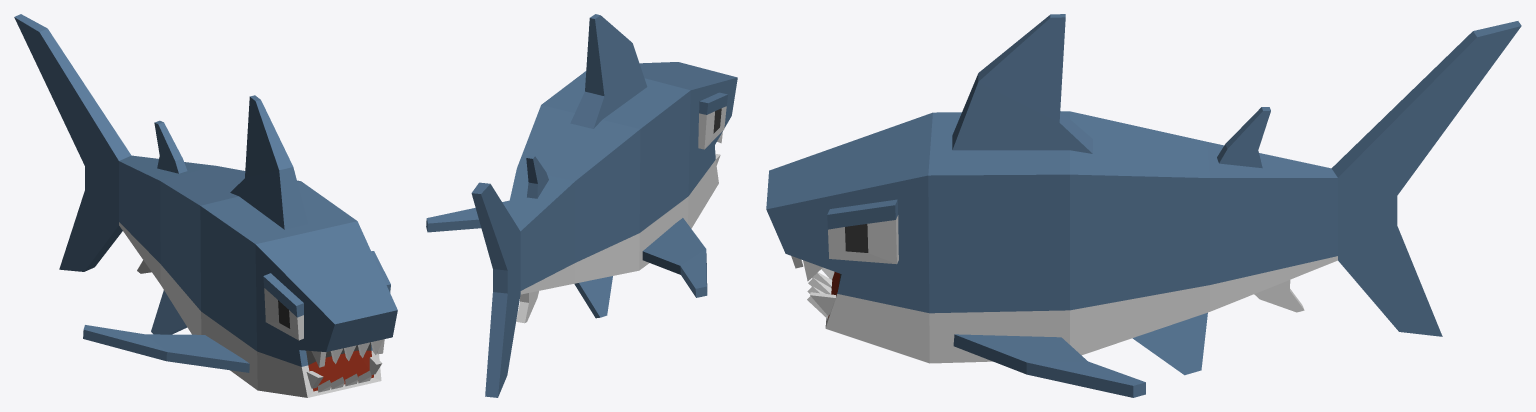
File: frame_01.fbx
3 views of the same model, side by side, from view 1: azimuth 30°, elevation 25°; view 2: azimuth 150°, elevation 25°; view 3: azimuth 270°, elevation 25° (orthographic). The views are drawn at different scales.
Visible parts, largest first — view 1: Cube.000; view 2: Cube.000; view 3: Cube.000.
Part boxes in pixels (x1,y1,x2,y2): Cube.000: (14, 14, 397, 397); Cube.000: (426, 14, 737, 397); Cube.000: (766, 14, 1521, 397).
Bounding box in the file's own units: 5.24 × 4.7 × 9.33.
